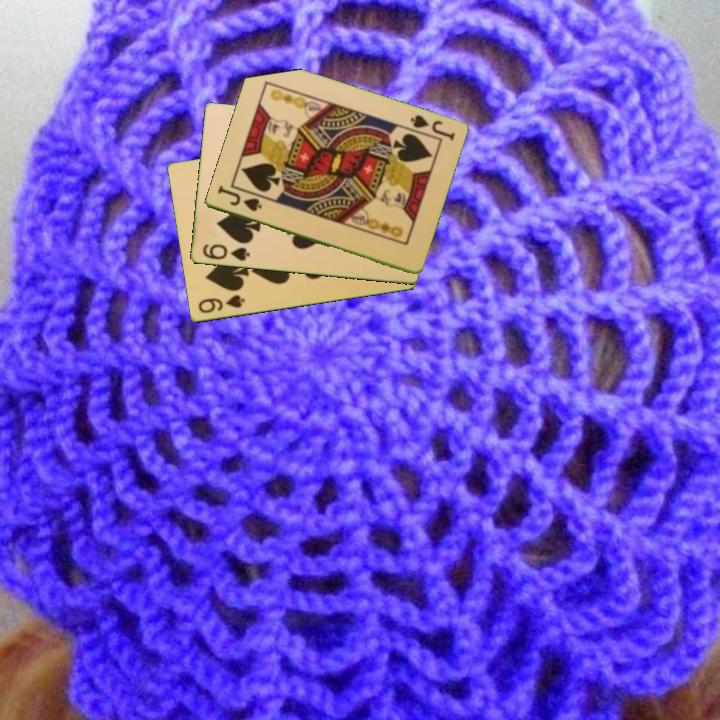6s: (199, 241, 252, 264)
9s: (194, 292, 247, 317)
Js: (406, 111, 458, 144), (214, 184, 264, 215)
